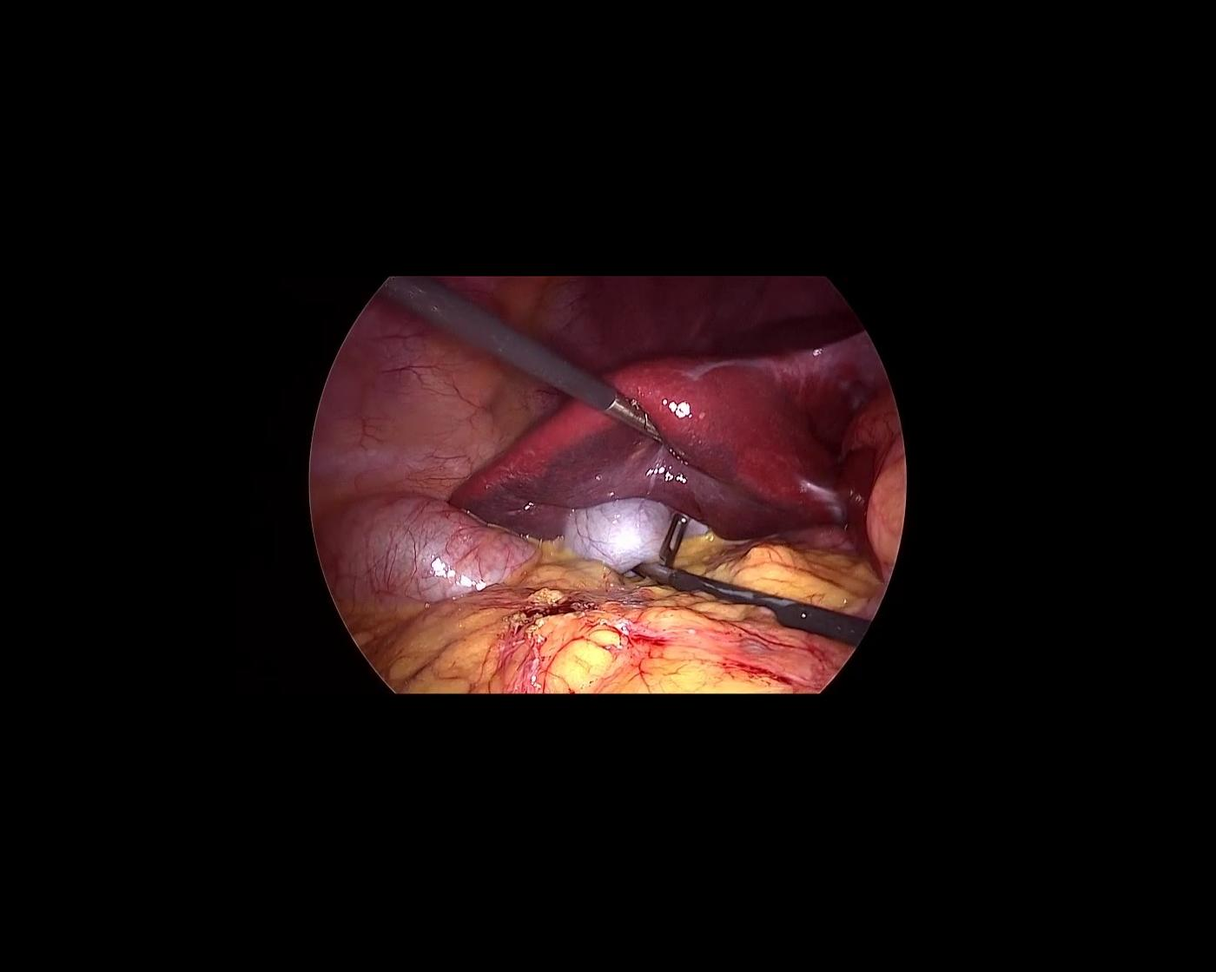Forceps: (375, 257, 676, 460), (636, 508, 872, 684)
Gallbladder: (556, 492, 713, 579)
Liver: (445, 333, 897, 572)
